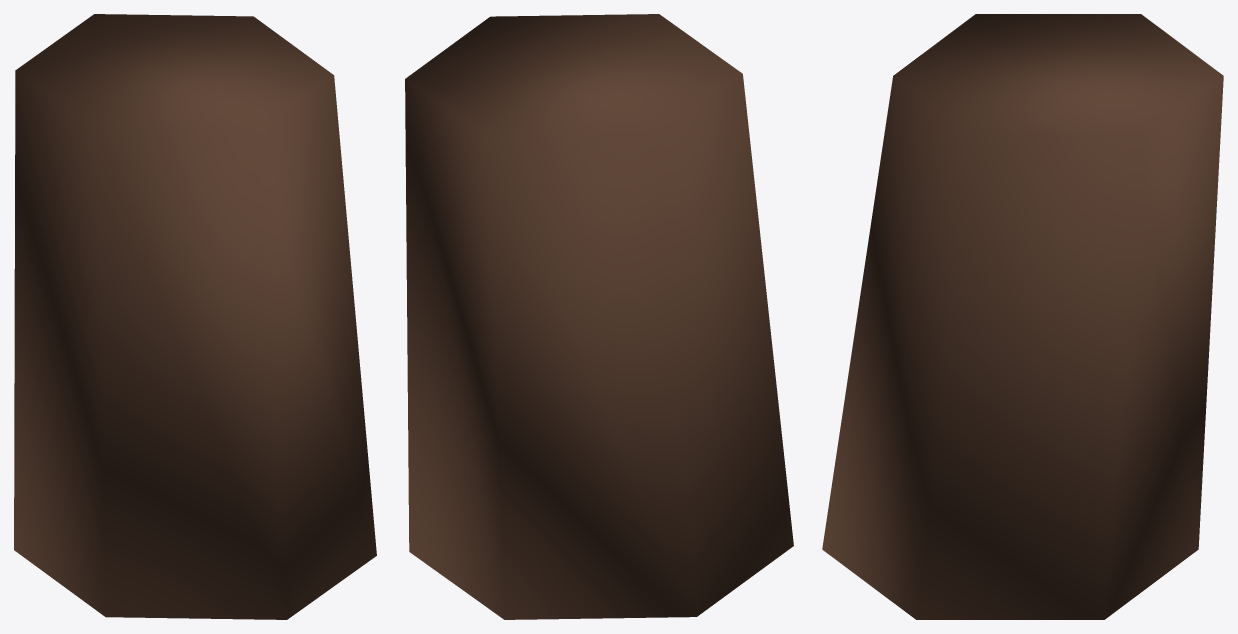
The model's file is PineTree_Chopped.fbx.
The picture shows the model from 3 angles, left to right: view 1: azimuth 30°, elevation 25°; view 2: azimuth 150°, elevation 25°; view 3: azimuth 270°, elevation 25°; orthographic projection. The views are drawn at different scales.
Visible parts, largest first — view 1: PineTree_Chopped; view 2: PineTree_Chopped; view 3: PineTree_Chopped.
Boxes of the visible parts, left/top/right/bottom form: PineTree_Chopped: left=14, top=14, right=376, bottom=619; PineTree_Chopped: left=405, top=14, right=793, bottom=619; PineTree_Chopped: left=822, top=14, right=1223, bottom=619.
Bounding box in the file's own units: 93.16 × 153 × 116.
